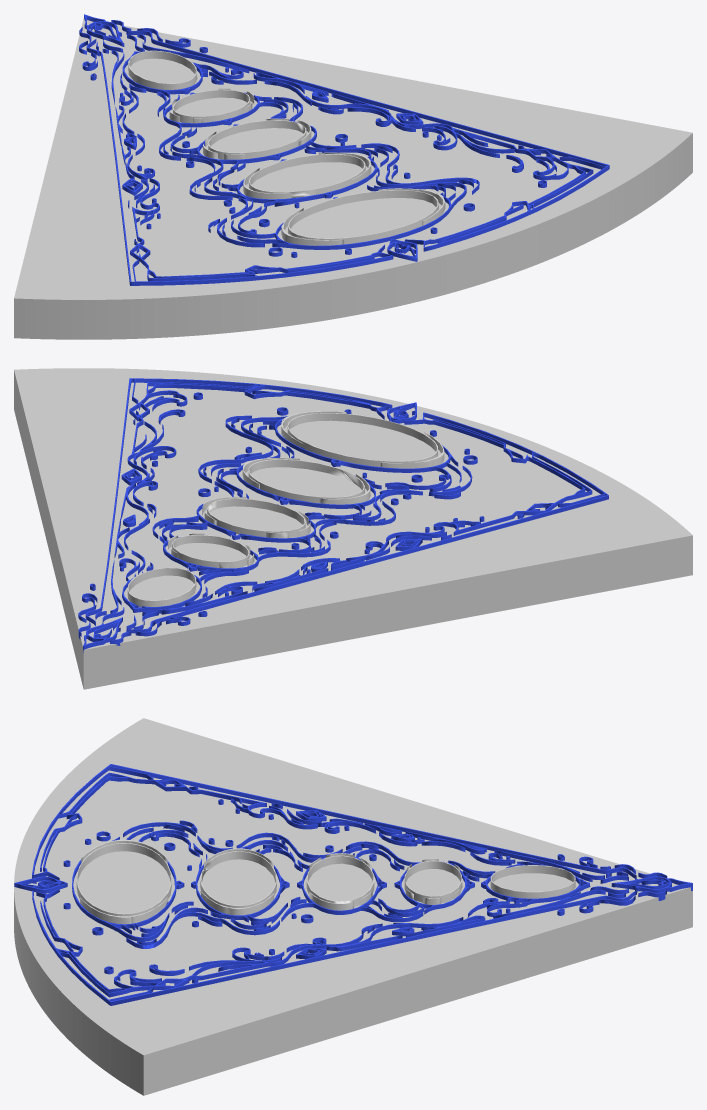
File: floor_haiku_cosmos.glb
3 views of the same model, one above another, from view 1: azimuth 30°, elevation 25°; view 2: azimuth 150°, elevation 25°; view 3: azimuth 270°, elevation 25° (orthographic).
Parts seen in each view (by area): view 1: VR_PROGRESS_SECTOR_WATER_BASE, path1, VR_PROGRESS_CARD_WATER_05, VR_PROGRESS_CARD_WATER_04, VR_PROGRESS_CARD_WATER_03, VR_PROGRESS_CARD_WATER_02, VR_PROGRESS_CARD_WATER_01; view 2: VR_PROGRESS_SECTOR_WATER_BASE, path1, VR_PROGRESS_CARD_WATER_05, VR_PROGRESS_CARD_WATER_04, VR_PROGRESS_CARD_WATER_03, VR_PROGRESS_CARD_WATER_02, VR_PROGRESS_CARD_WATER_01; view 3: VR_PROGRESS_SECTOR_WATER_BASE, path1, VR_PROGRESS_CARD_WATER_05, VR_PROGRESS_CARD_WATER_04, VR_PROGRESS_CARD_WATER_03, VR_PROGRESS_CARD_WATER_01, VR_PROGRESS_CARD_WATER_02.
Boxes of the visible parts, bbox=[...] form: VR_PROGRESS_SECTOR_WATER_BASE: bbox=[14, 18, 692, 339]; path1: bbox=[79, 14, 609, 285]; VR_PROGRESS_CARD_WATER_05: bbox=[281, 188, 445, 245]; VR_PROGRESS_CARD_WATER_04: bbox=[243, 152, 371, 199]; VR_PROGRESS_CARD_WATER_03: bbox=[203, 118, 311, 159]; VR_PROGRESS_CARD_WATER_02: bbox=[169, 88, 254, 123]; VR_PROGRESS_CARD_WATER_01: bbox=[128, 50, 197, 89]; VR_PROGRESS_SECTOR_WATER_BASE: bbox=[14, 368, 692, 689]; path1: bbox=[78, 378, 608, 653]; VR_PROGRESS_CARD_WATER_05: bbox=[281, 411, 444, 468]; VR_PROGRESS_CARD_WATER_04: bbox=[242, 457, 370, 504]; VR_PROGRESS_CARD_WATER_03: bbox=[202, 497, 310, 538]; VR_PROGRESS_CARD_WATER_02: bbox=[168, 533, 254, 568]; VR_PROGRESS_CARD_WATER_01: bbox=[127, 567, 196, 607]; VR_PROGRESS_SECTOR_WATER_BASE: bbox=[14, 718, 692, 1095]; path1: bbox=[14, 764, 692, 1005]; VR_PROGRESS_CARD_WATER_05: bbox=[76, 839, 171, 924]; VR_PROGRESS_CARD_WATER_04: bbox=[200, 848, 276, 915]; VR_PROGRESS_CARD_WATER_03: bbox=[306, 853, 374, 910]; VR_PROGRESS_CARD_WATER_01: bbox=[490, 865, 575, 898]; VR_PROGRESS_CARD_WATER_02: bbox=[404, 858, 462, 904].
Size of the model in its own units: 8.93 by 0.6022 by 7.6.
